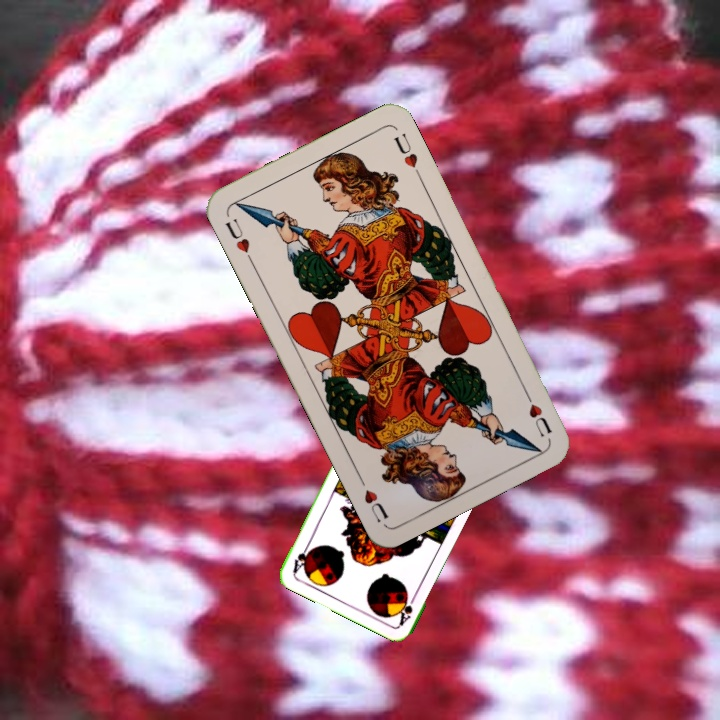HU: (519, 386, 555, 440), (221, 214, 256, 266)
SA: (395, 589, 419, 628)
